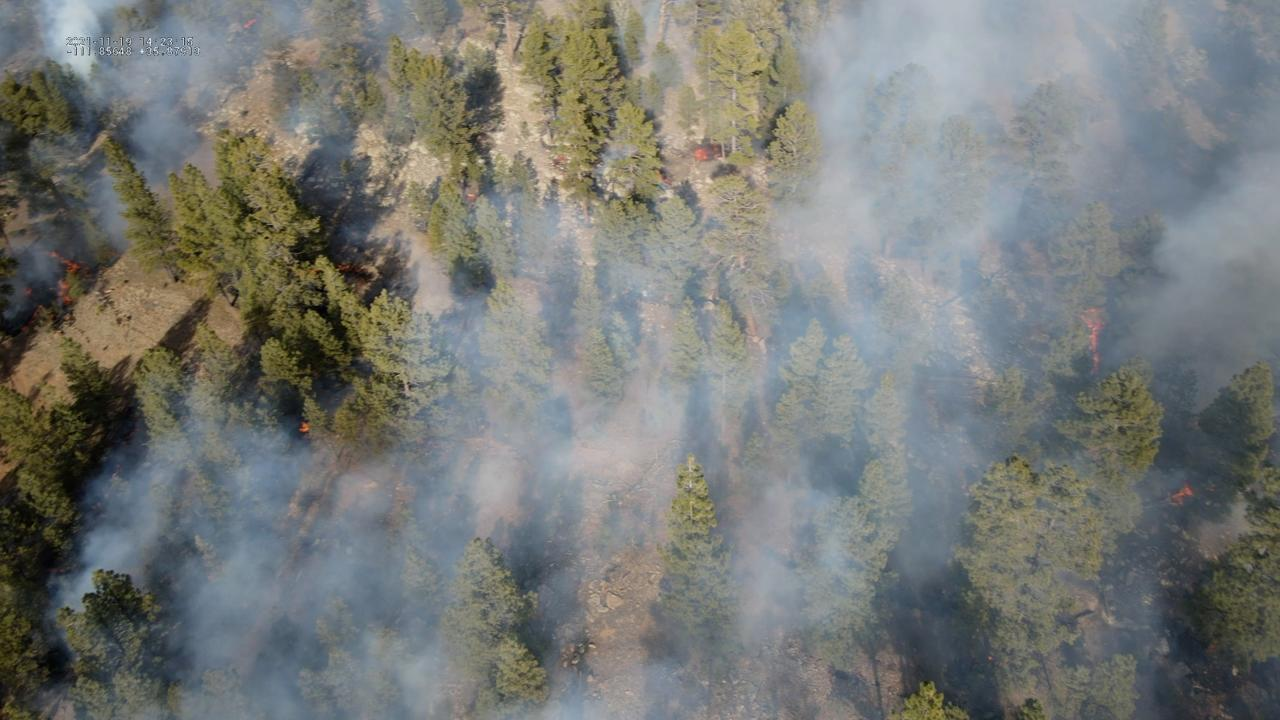fire: (45, 248, 81, 308), (1075, 307, 1103, 379), (1168, 485, 1195, 507), (334, 262, 369, 276), (691, 146, 711, 163), (19, 283, 34, 301), (297, 420, 311, 435), (241, 18, 257, 30), (466, 190, 477, 201), (662, 176, 672, 188)
smoke: (0, 0, 1280, 720)
